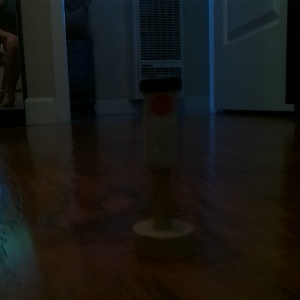traffic light red: (127, 76, 198, 260)
